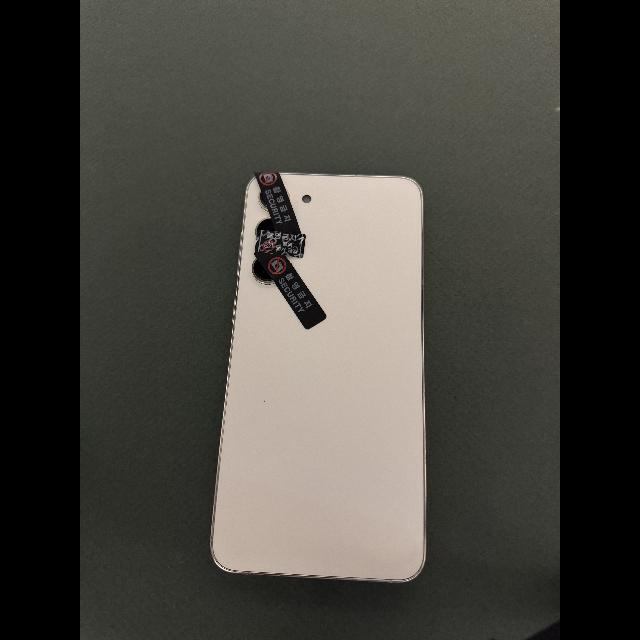lens: (251, 258, 274, 283), (255, 218, 275, 237), (258, 191, 268, 212)
phone: (210, 172, 426, 583)
sticker: (254, 252, 327, 329), (254, 172, 301, 234), (255, 229, 306, 258)
